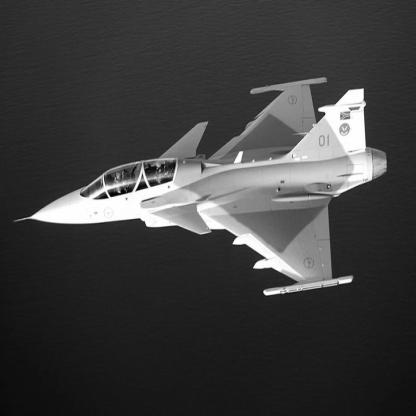JAS39: (14, 78, 388, 298)
